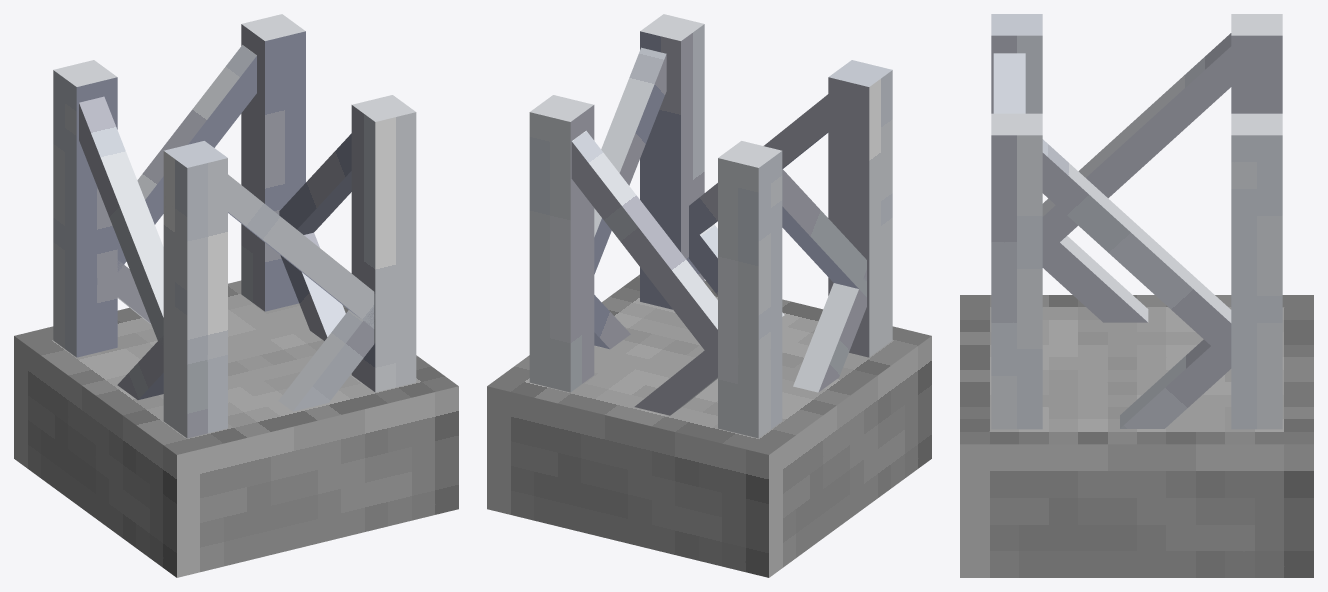
Rendered from overhead_pillar_steel_bottom.obj.
The picture shows the model from 3 angles, left to right: view 1: azimuth 30°, elevation 25°; view 2: azimuth 150°, elevation 25°; view 3: azimuth 270°, elevation 25°; orthographic projection. The views are drawn at different scales.
Visible parts, largest first — view 1: slide_pole; view 2: slide_pole; view 3: slide_pole.
Boxes of the visible parts, x1=… form: slide_pole: x1=14, y1=14, x2=458, y2=577; slide_pole: x1=487, y1=14, x2=931, y2=577; slide_pole: x1=960, y1=14, x2=1313, y2=577.
Bounding box in the file's own units: 0.75 × 1 × 0.75.
